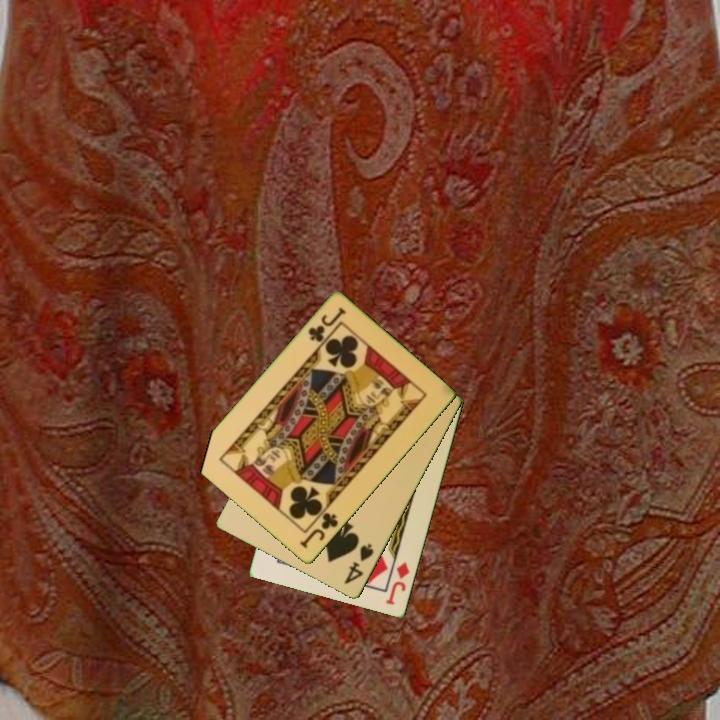4s: (340, 541, 377, 587)
Jc: (296, 509, 341, 552), (304, 304, 349, 346)
Jd: (383, 558, 413, 608)
